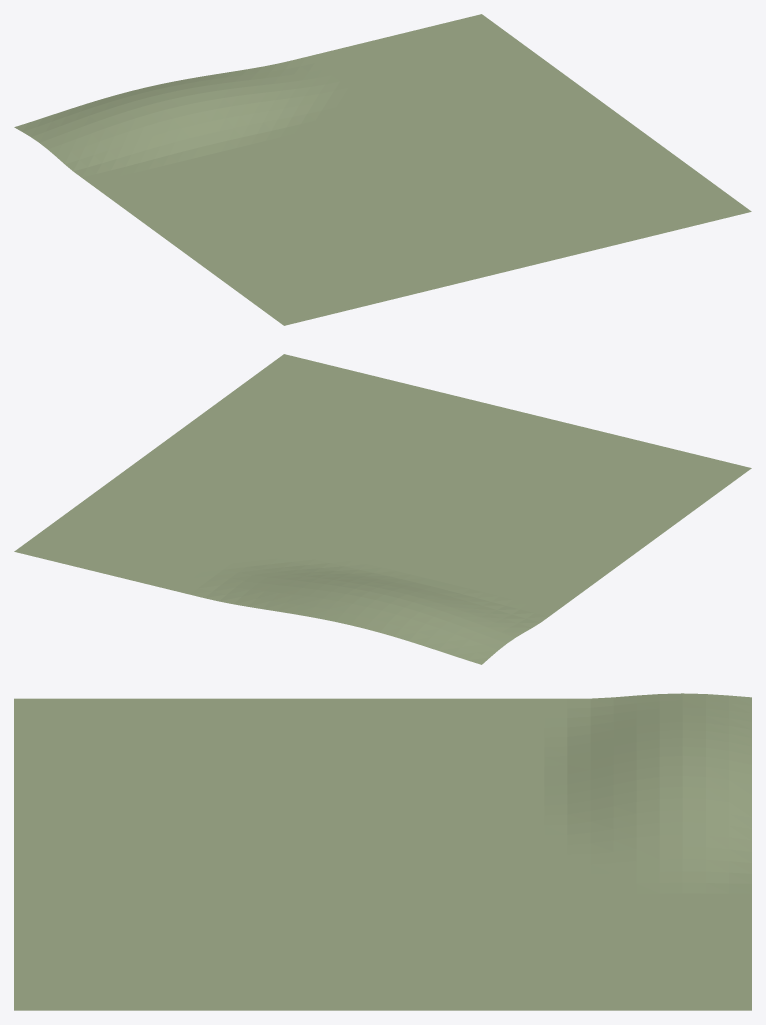
File: urban-2-1.glb
3 views of the same model, one above another, from view 1: azimuth 30°, elevation 25°; view 2: azimuth 150°, elevation 25°; view 3: azimuth 270°, elevation 25° (orthographic). The views are drawn at different scales.
Visible parts, largest first — view 1: urban-2-1; view 2: urban-2-1; view 3: urban-2-1.
Part boxes in pixels (box(x1,y1,x2,y2)): urban-2-1: box(14, 14, 751, 325); urban-2-1: box(14, 354, 751, 664); urban-2-1: box(14, 693, 751, 1010).
Bounding box in the file's own units: 128 × 3.99 × 128.
